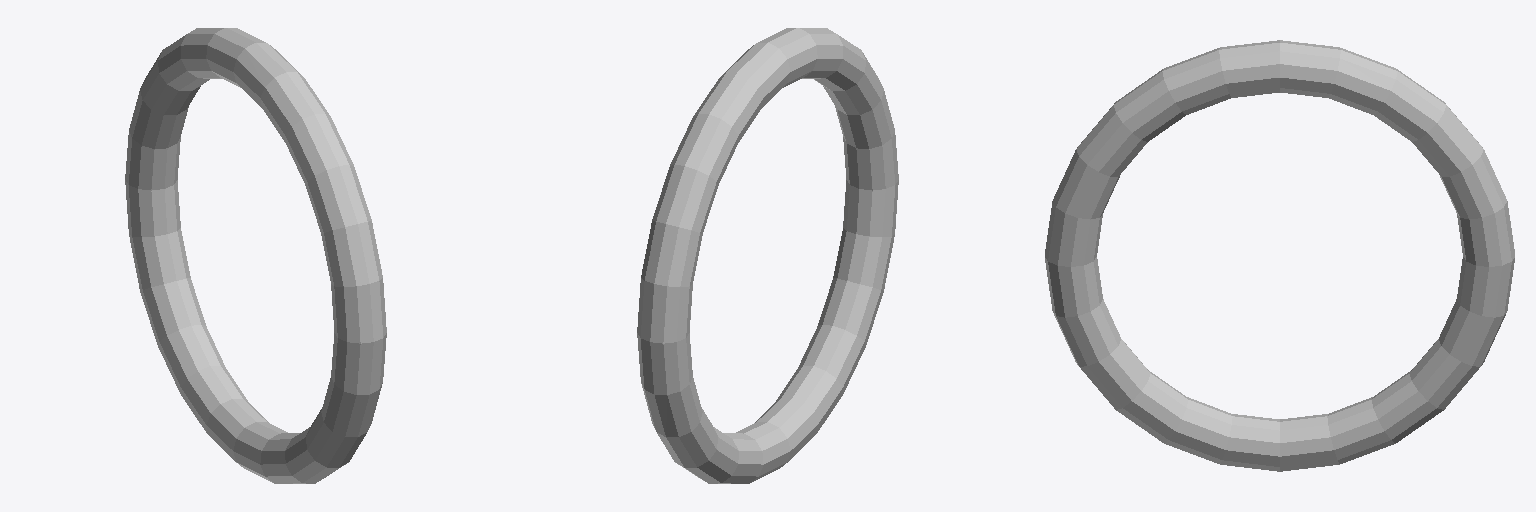
The model's file is RingV3.obj.
3 renders of one model, left to right at view 1: azimuth 30°, elevation 25°; view 2: azimuth 150°, elevation 25°; view 3: azimuth 270°, elevation 25°, orthographic.
Visible parts, largest first — view 1: Torus001; view 2: Torus001; view 3: Torus001.
Part boxes in pixels (x1,y1,x2,y2): Torus001: (125,28,386,483); Torus001: (637,28,898,483); Torus001: (1045,40,1514,471).
Size of the model in its own units: 1.12 by 10.05 by 10.05.